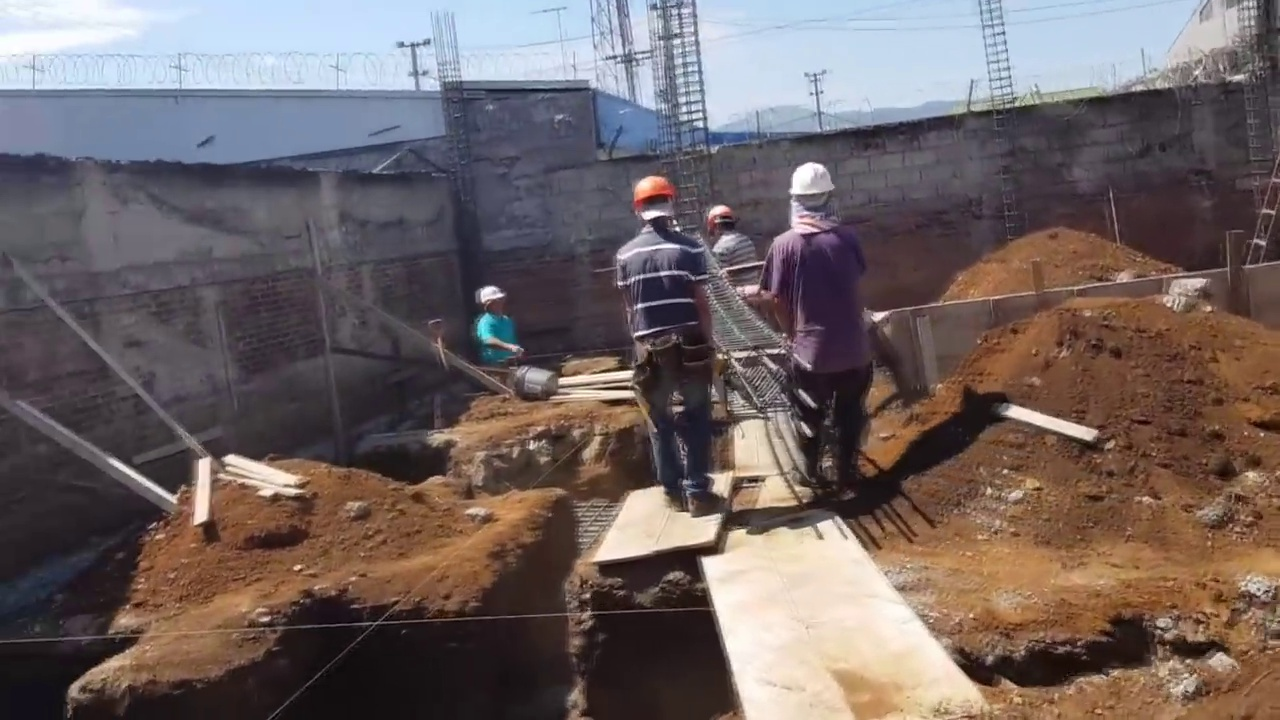helmet: (788, 159, 845, 200), (629, 176, 676, 212), (705, 204, 736, 228), (475, 286, 504, 304)
helmet-on: (788, 160, 843, 233), (629, 175, 676, 235), (705, 206, 738, 241), (477, 285, 501, 319)
person: (622, 180, 744, 520), (765, 156, 877, 514), (699, 205, 754, 277), (468, 282, 515, 363)
